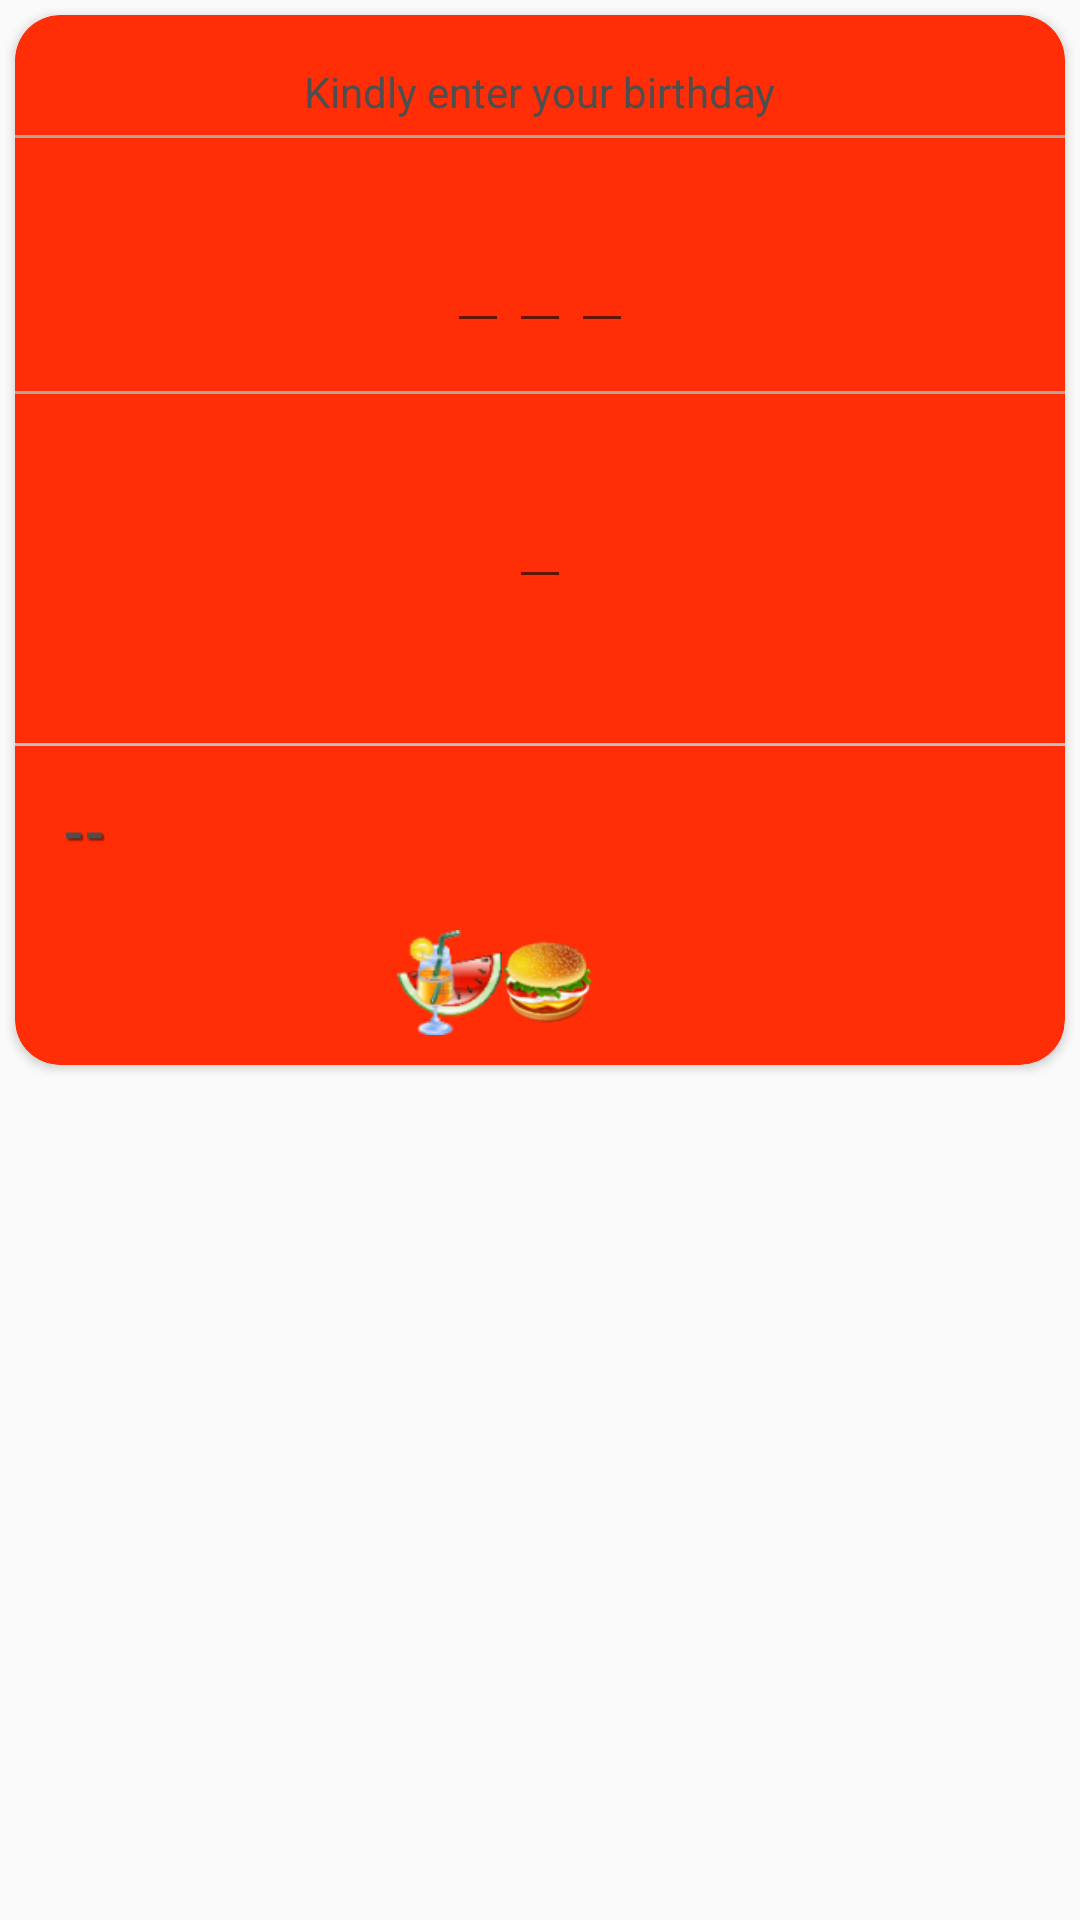

Where icons sit on this 1080px x 1920px app screen, as (x1, y1, x2, y2):
burger: (503, 942, 592, 1022)
drinkss: (397, 930, 502, 1035)
